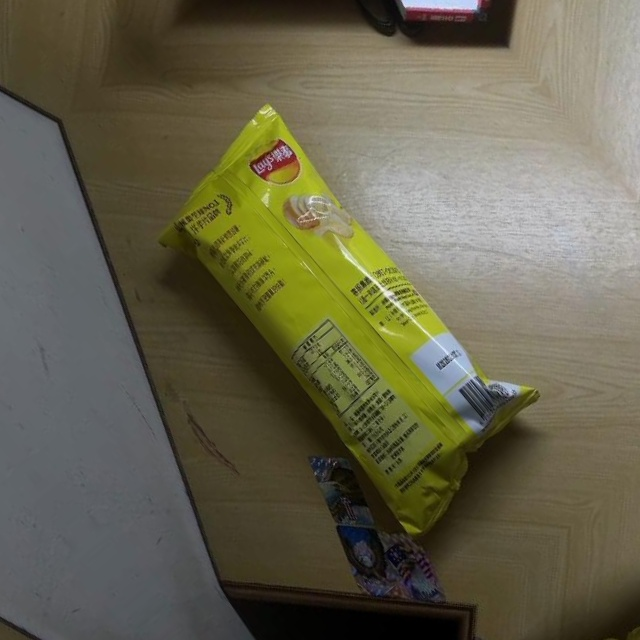Lay-s-original: (134, 87, 563, 546)
